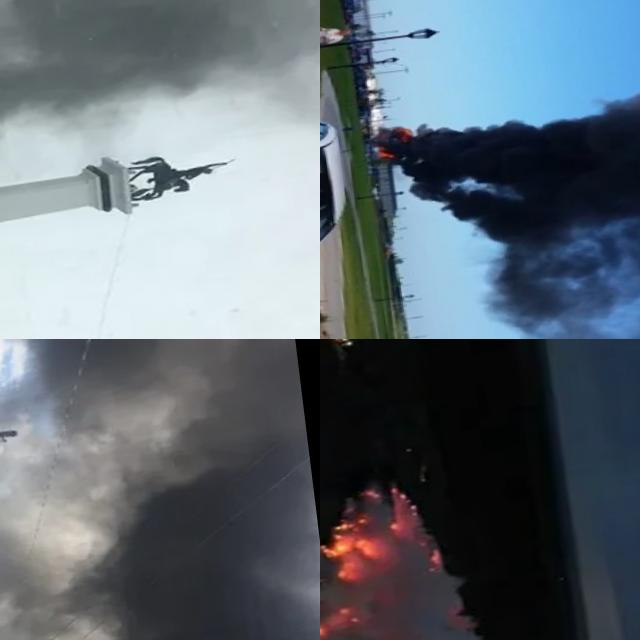smoke: (376, 68, 640, 339), (0, 429, 320, 640), (0, 0, 320, 181), (320, 469, 567, 640)
